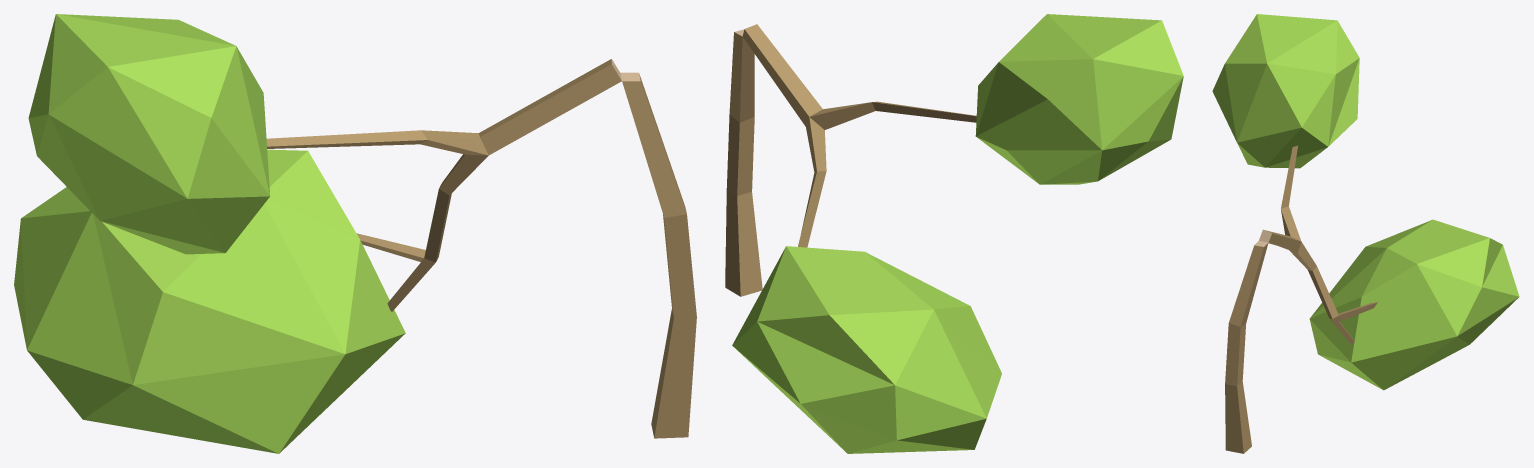
File: Random_Tree_crk_s_02_LOD.fbx
The picture shows the model from 3 angles, left to right: view 1: azimuth 30°, elevation 25°; view 2: azimuth 150°, elevation 25°; view 3: azimuth 270°, elevation 25°; orthographic projection. The views are drawn at different scales.
Visible parts, largest first — view 1: Random_Tree_crk_s_02_LOD0; view 2: Random_Tree_crk_s_02_LOD0; view 3: Random_Tree_crk_s_02_LOD0.
Boxes of the visible parts, bbox=[...] form: Random_Tree_crk_s_02_LOD0: bbox=[14, 14, 696, 453]; Random_Tree_crk_s_02_LOD0: bbox=[725, 14, 1183, 453]; Random_Tree_crk_s_02_LOD0: bbox=[1212, 14, 1519, 453].
Size of what is drawn, in the model's own units: 193 by 147 by 145.
